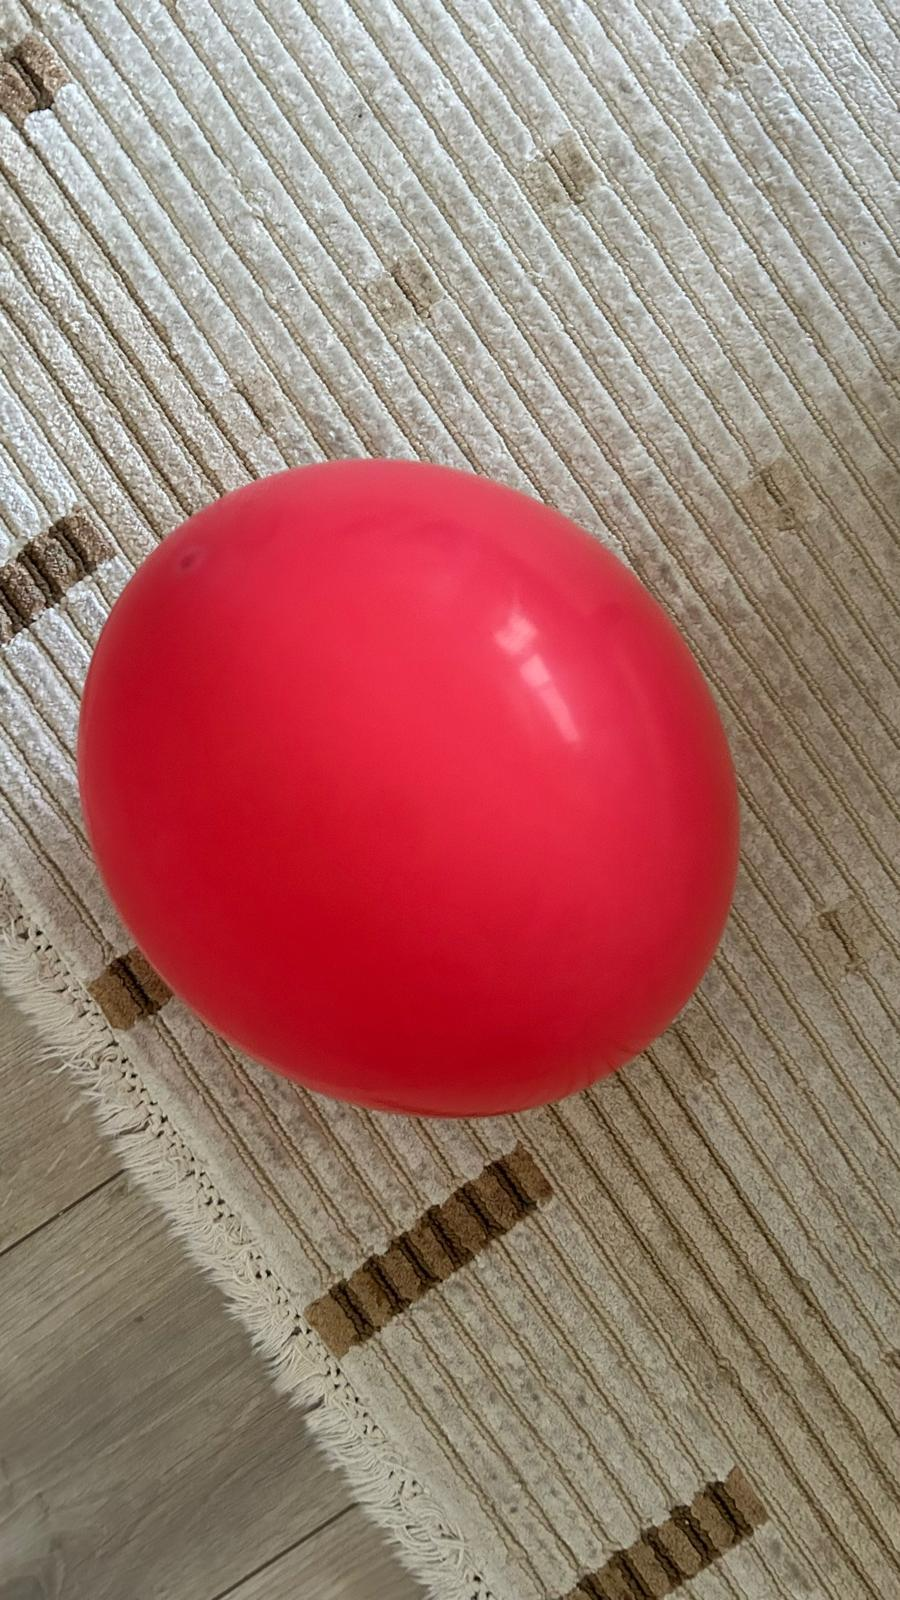red: (74, 451, 742, 1121)
